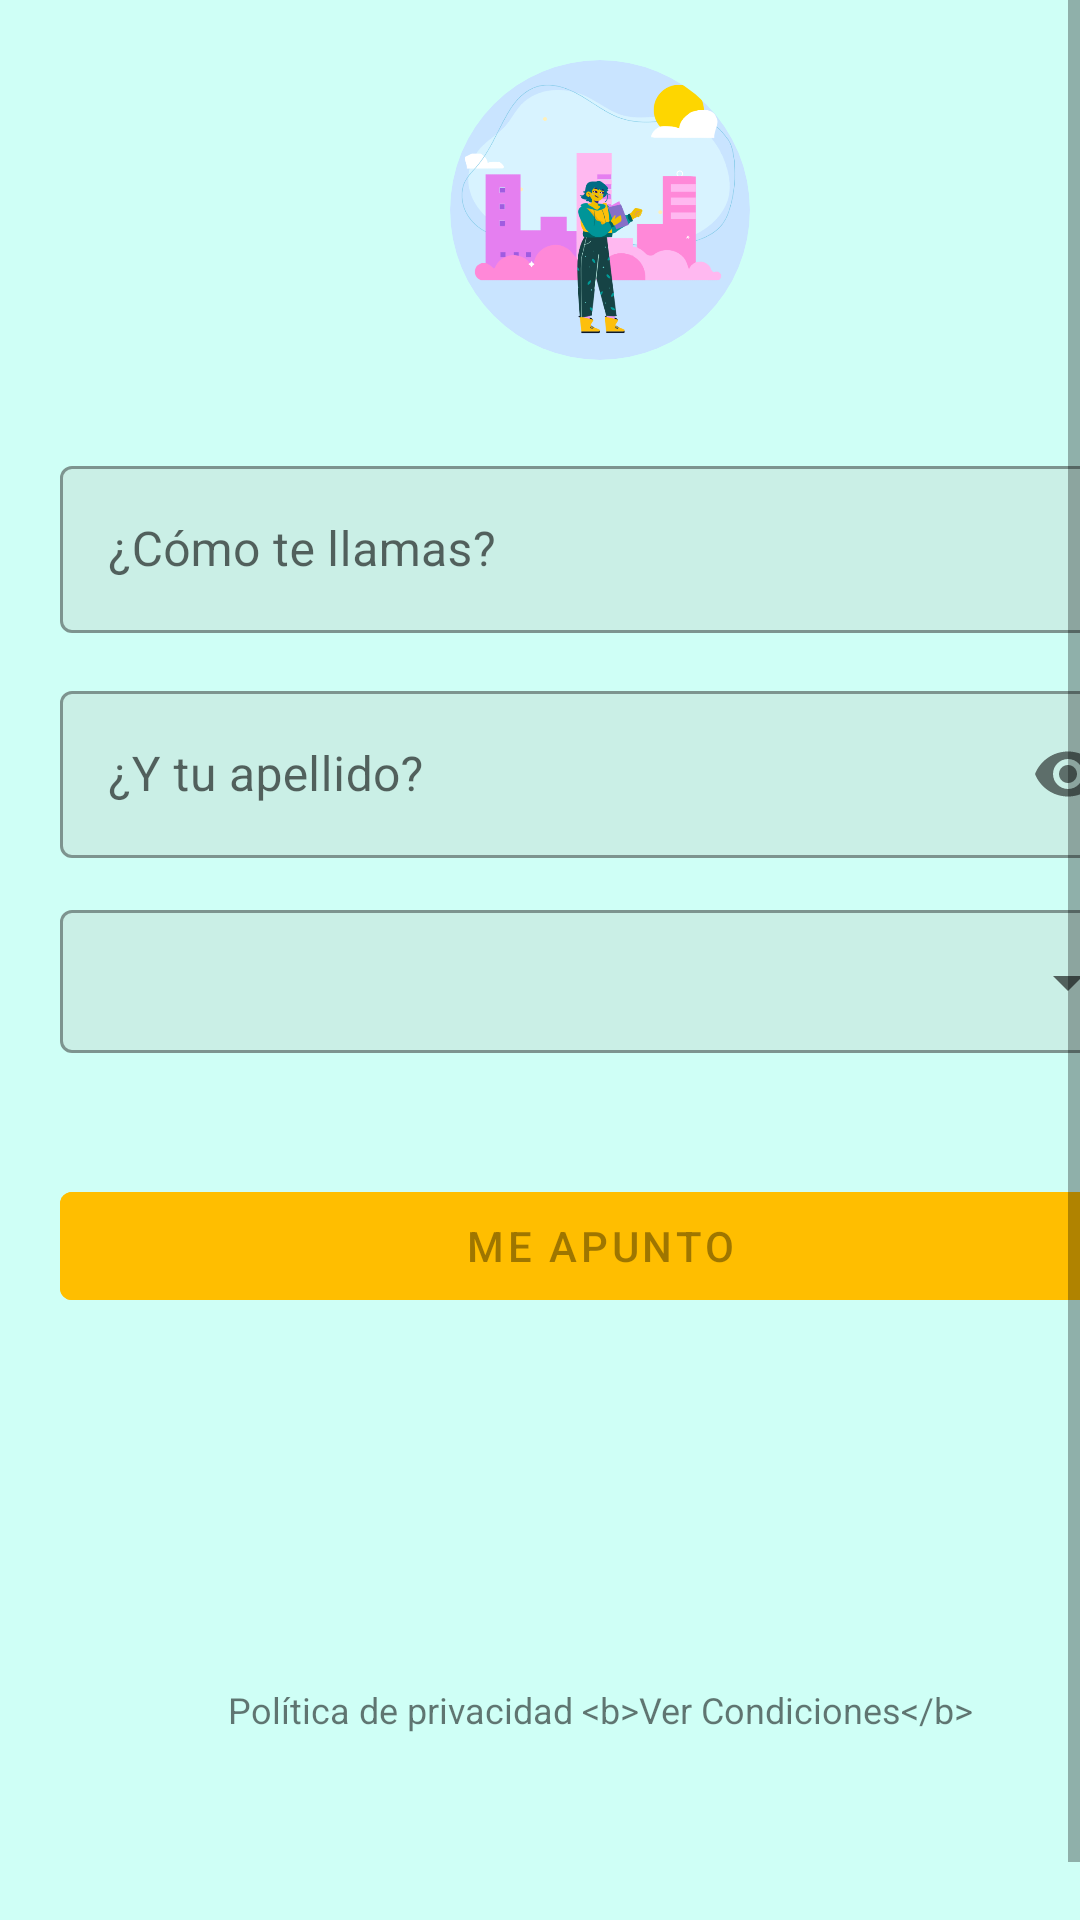

Icon bounding boxes for this 1080px x 1920px phone screenshot, format (x1, y1, x2, y2):
nomadscitytour: (450, 60, 750, 360)
